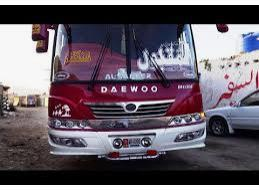bus: (46, 18, 206, 164)
